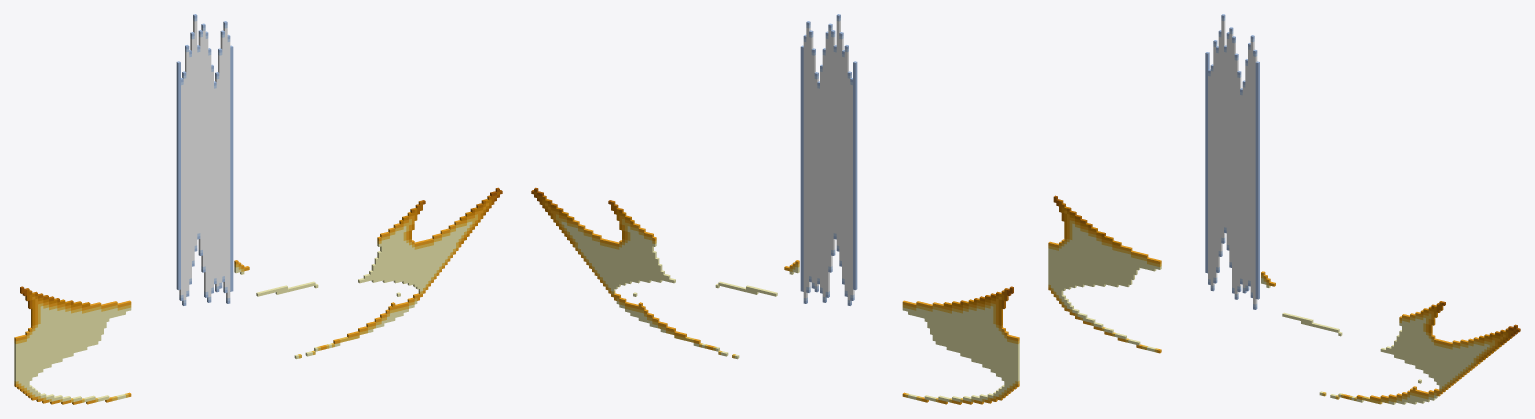
File: Fight_757_2_10_fx.obj
3 renders of one model, left to right at view 1: azimuth 30°, elevation 25°; view 2: azimuth 150°, elevation 25°; view 3: azimuth 330°, elevation 25°, orthographic. The views are drawn at different scales.
Size of the model in its own units: 17.7 by 12.8 by 0.1.
